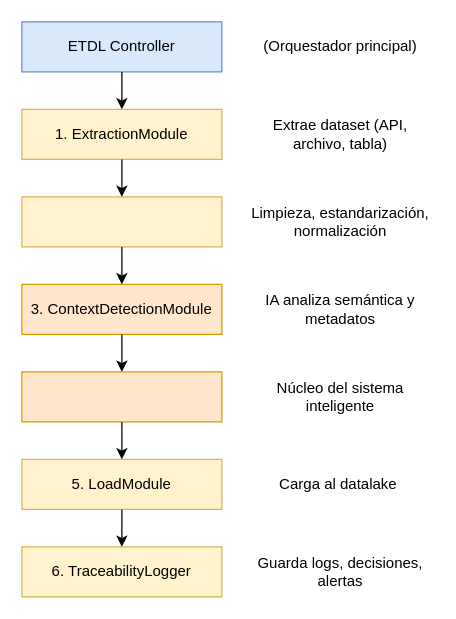
Some shapes in this 456 by 619 pixel diagram are drawn without their labels. The centre of each missing label's shape, as x and y in pixels:
2. TransformationModule: (121,221)
4. IntelligentModelingModule: (121,396)
